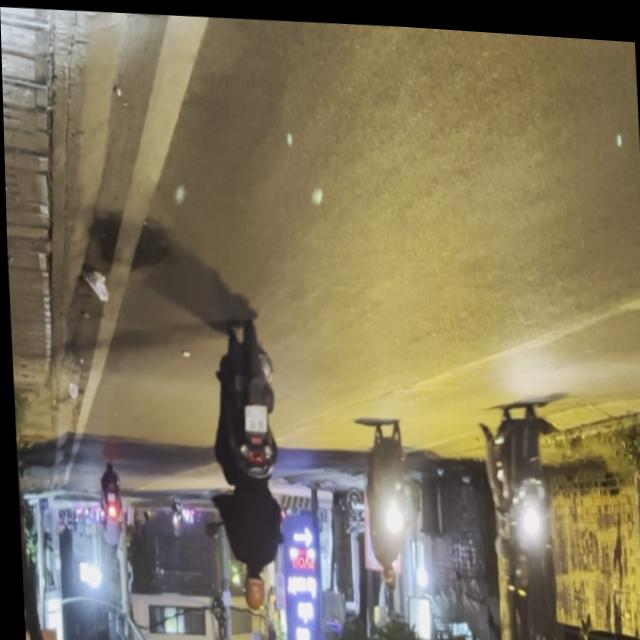helmet: (238, 566, 264, 610)
licenseplate: (204, 314, 286, 613), (477, 391, 552, 596)
nohelmet: (242, 402, 264, 429)
